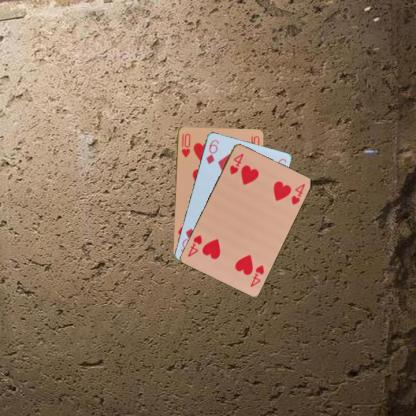10h: (179, 131, 192, 158)
4h: (227, 150, 245, 176), (247, 262, 265, 288)
6d: (204, 137, 220, 165)
